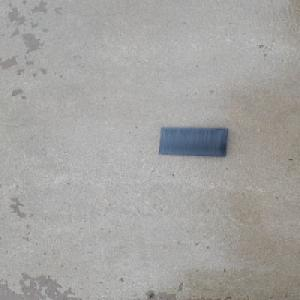PlasticPart: (157, 126, 229, 157)
